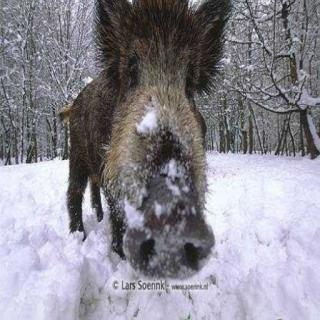Pig: (50, 0, 253, 285)
